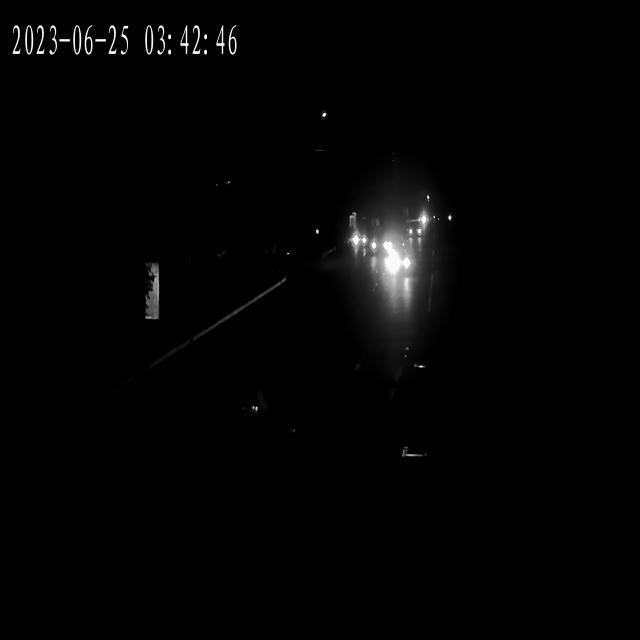Car: (380, 249, 415, 284), (367, 234, 392, 258), (402, 218, 424, 243), (346, 232, 370, 252), (418, 206, 434, 229)
